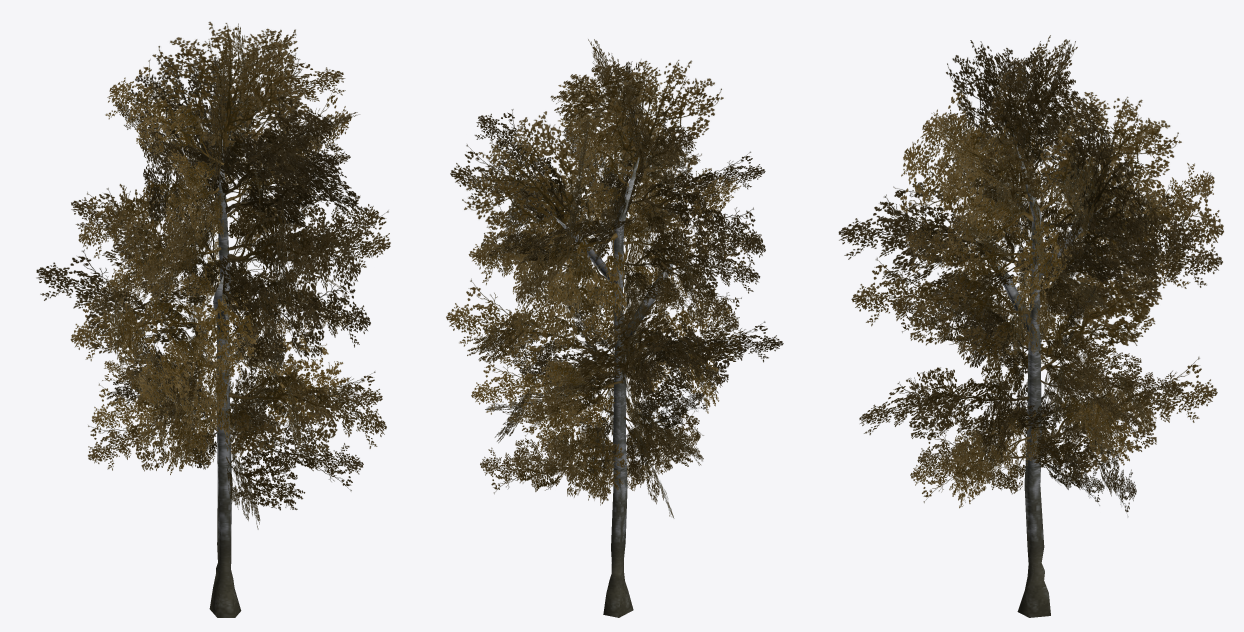
The model's file is forest_oak_3.glb.
3 renders of one model, left to right at view 1: azimuth 30°, elevation 25°; view 2: azimuth 150°, elevation 25°; view 3: azimuth 270°, elevation 25°, orthographic. The views are drawn at different scales.
Parts seen in each view (by area): view 1: Tree_Branches_02_Tree_Branches_02_0, Tree_Trunk_02_Tree_Trunk_02_0; view 2: Tree_Branches_02_Tree_Branches_02_0, Tree_Trunk_02_Tree_Trunk_02_0; view 3: Tree_Branches_02_Tree_Branches_02_0, Tree_Trunk_02_Tree_Trunk_02_0.
Part boxes in pixels (x1,y1,x2,y2): Tree_Branches_02_Tree_Branches_02_0: (36, 21, 390, 529); Tree_Trunk_02_Tree_Trunk_02_0: (209, 139, 241, 617); Tree_Branches_02_Tree_Branches_02_0: (446, 39, 783, 518); Tree_Trunk_02_Tree_Trunk_02_0: (554, 157, 682, 617); Tree_Branches_02_Tree_Branches_02_0: (838, 35, 1223, 516); Tree_Trunk_02_Tree_Trunk_02_0: (976, 134, 1116, 617).
Size of the model in its own units: 3.31 by 5.93 by 3.83.
2 materials, 2 textured.
